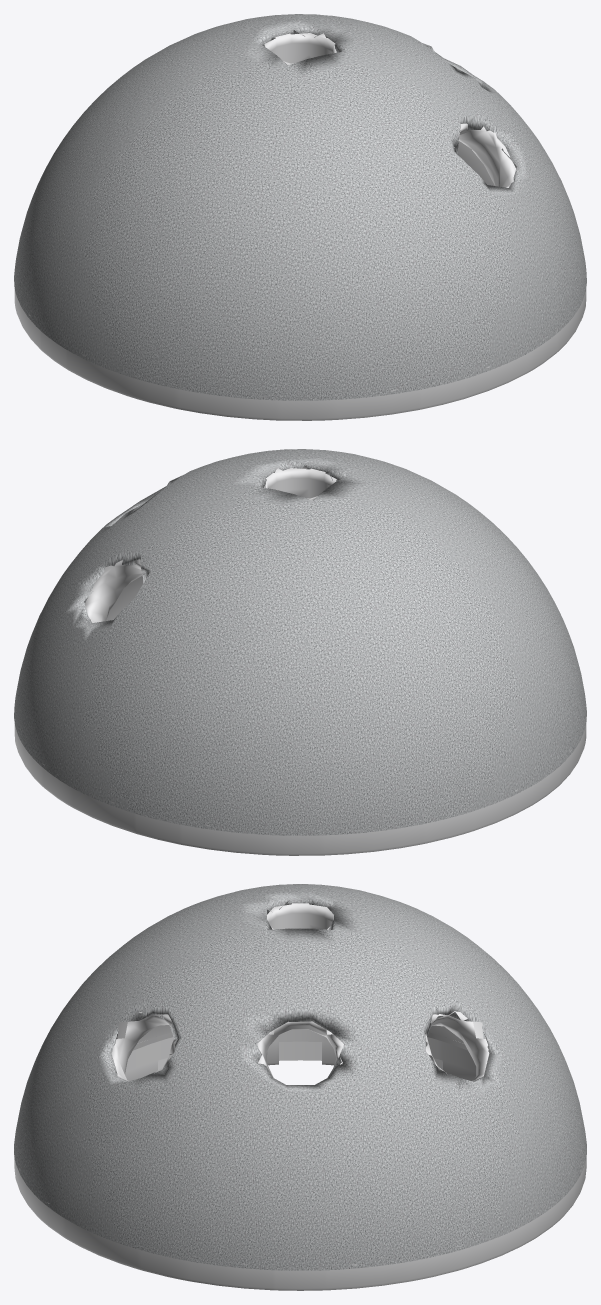
The model's file is cup_apex_tps_52_lod1.glb.
The picture shows the model from 3 angles, top to bottom: view 1: azimuth 30°, elevation 25°; view 2: azimuth 150°, elevation 25°; view 3: azimuth 270°, elevation 25°; orthographic projection.
Parts seen in each view (by area): view 1: cup_apex_tps_52; view 2: cup_apex_tps_52; view 3: cup_apex_tps_52.
Boxes of the visible parts, <box> form: cup_apex_tps_52: <box>14,14,586,420</box>; cup_apex_tps_52: <box>14,449,586,855</box>; cup_apex_tps_52: <box>14,884,586,1290</box>.
Bounding box in the file's own units: 0.0518 × 0.0257 × 0.0518.
2 materials, 1 textured.
